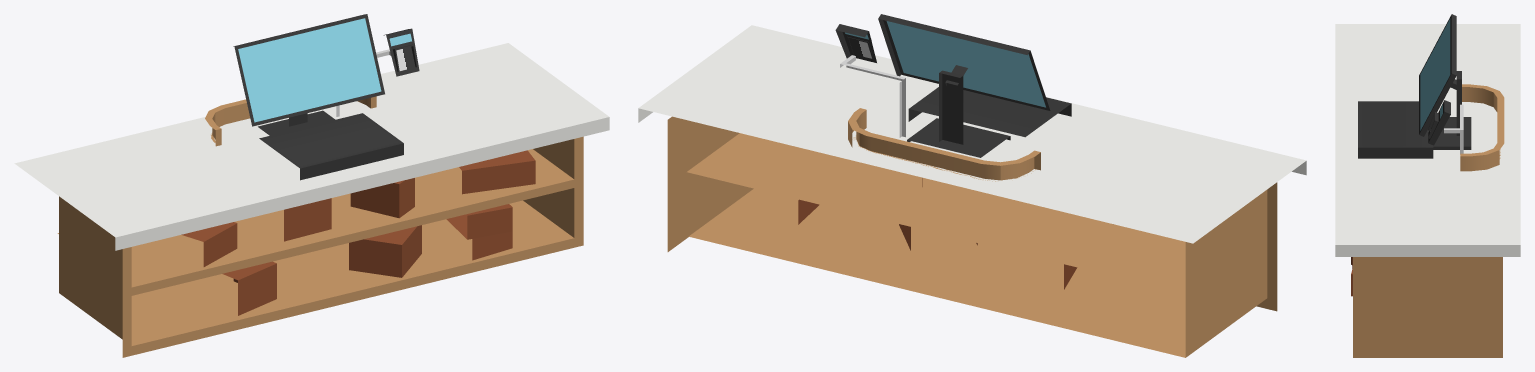
The model's file is Cash Register.fbx.
3 views of the same model, side by side, from view 1: azimuth 30°, elevation 25°; view 2: azimuth 150°, elevation 25°; view 3: azimuth 270°, elevation 25° (orthographic). The views are drawn at different scales.
Parts seen in each view (by area): view 1: pCube25; view 2: pCube25; view 3: pCube25.
Part boxes in pixels (<box>): pCube25: <box>14,14,609,357</box>; pCube25: <box>638,14,1306,357</box>; pCube25: <box>1335,14,1520,357</box>.
Size of the model in its own units: 4.63 by 2.07 by 1.64.
Materials: 1 (1 with a texture image).
